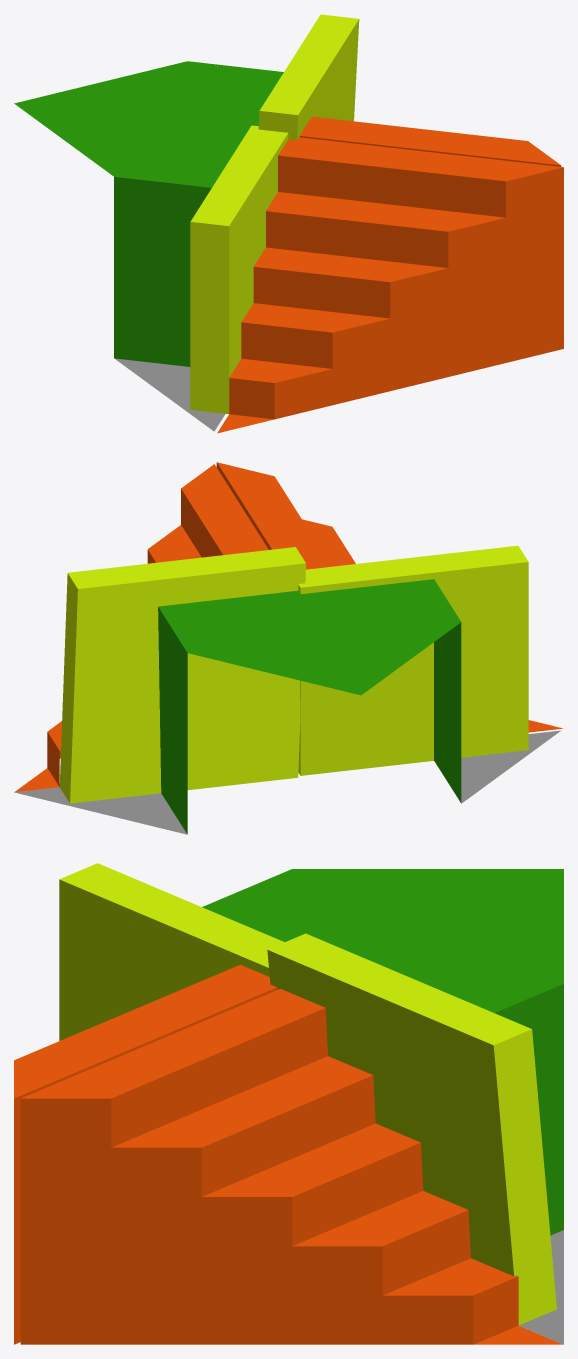
3 renders of one model, top to bottom at view 1: azimuth 30°, elevation 25°; view 2: azimuth 150°, elevation 25°; view 3: azimuth 270°, elevation 25°, orthographic. The views are drawn at different scales.
Parts seen in each view (by area): view 1: T_a_6_0; view 2: T_a_6_0; view 3: T_a_6_0.
Part boxes in pixels (box(x1,y1,x2,y2)): T_a_6_0: box(14, 14, 563, 433); T_a_6_0: box(14, 462, 563, 834); T_a_6_0: box(14, 863, 563, 1344).
Size of the model in its own units: 99.85 by 56.97 by 101.
